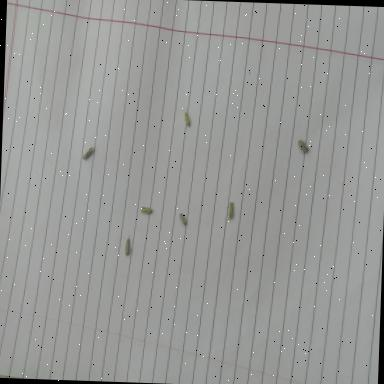pbw: (180, 107, 190, 126), (296, 140, 308, 152), (124, 234, 130, 256), (82, 147, 92, 159), (226, 202, 232, 220), (178, 212, 186, 224), (140, 206, 152, 213)
